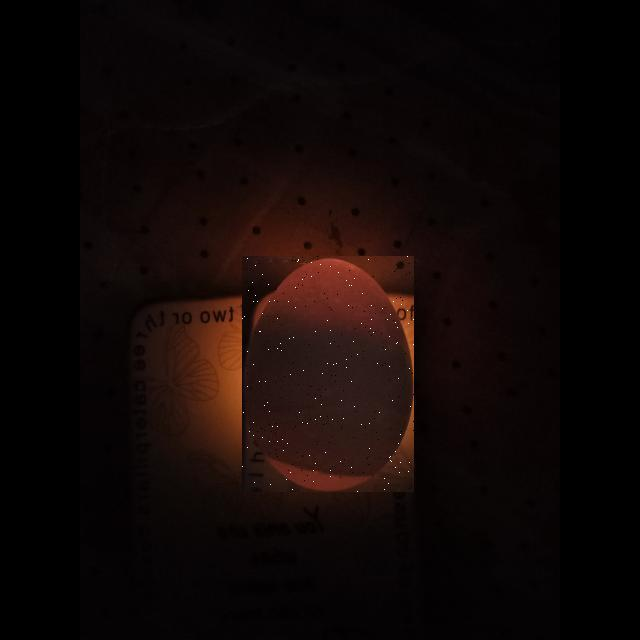Fertile: (242, 256, 414, 492)
